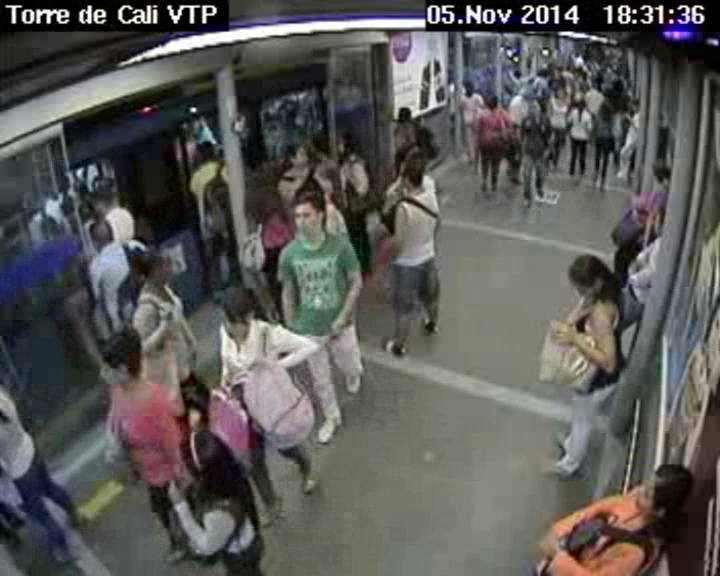person: (627, 456, 698, 534), (174, 429, 240, 495), (560, 248, 618, 308), (207, 287, 263, 343), (96, 329, 145, 390), (127, 242, 173, 293), (82, 211, 123, 258), (394, 147, 432, 193), (293, 193, 328, 241), (239, 155, 275, 196), (653, 206, 683, 251), (92, 186, 119, 214), (648, 159, 673, 189), (336, 129, 358, 163), (285, 139, 311, 166), (191, 141, 214, 170), (597, 101, 619, 120), (397, 104, 414, 127), (484, 93, 498, 111), (574, 94, 588, 112), (462, 80, 474, 100), (524, 101, 540, 116), (628, 98, 643, 113), (554, 88, 569, 101)
